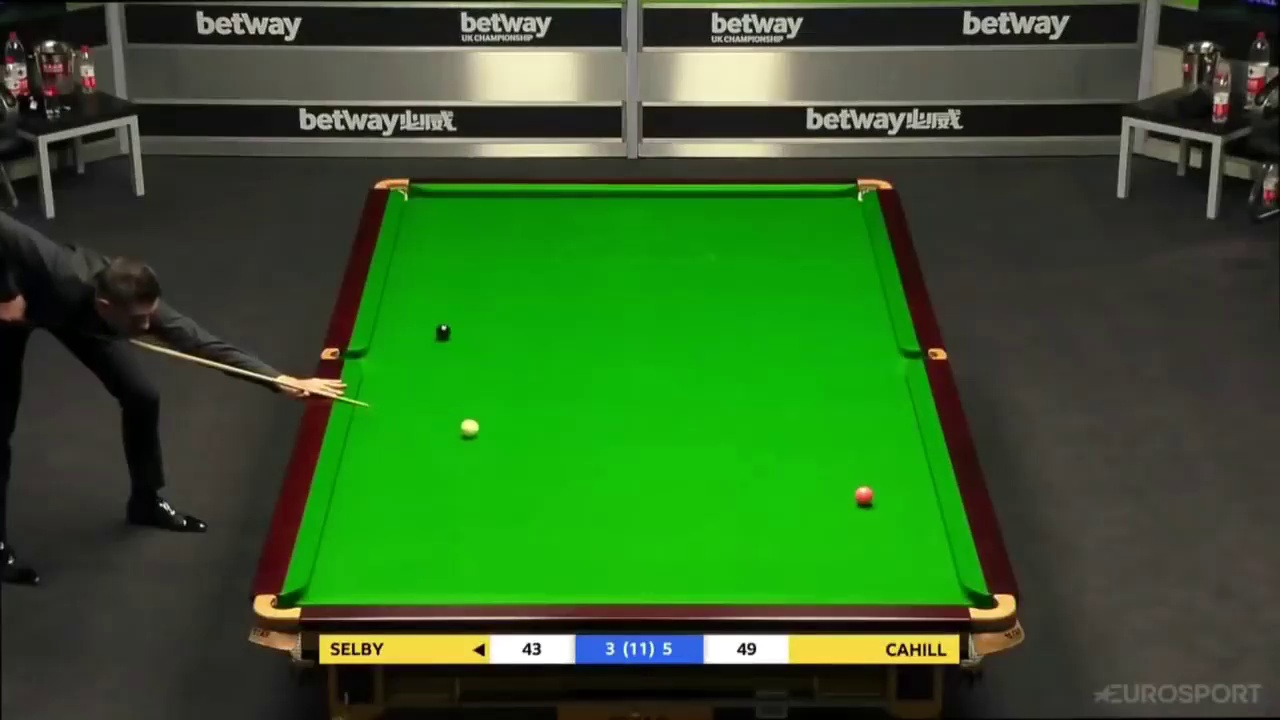ball: (852, 487, 875, 509), (432, 322, 451, 341)
